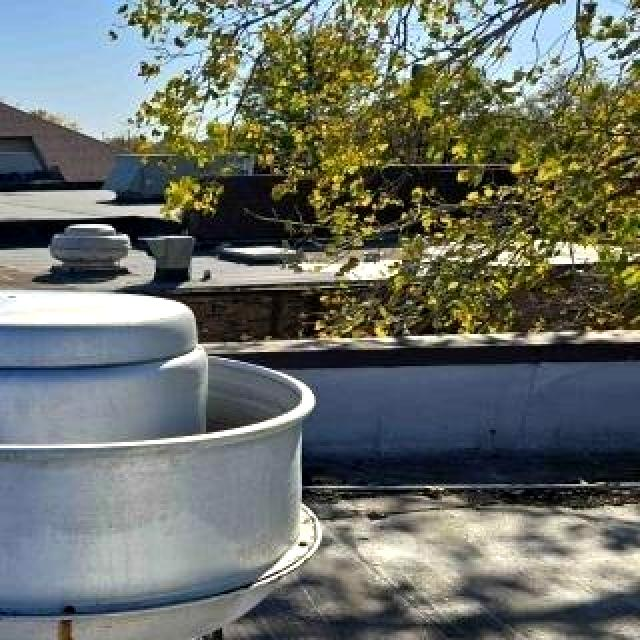GRAVITY-VENT: (0, 284, 340, 640), (46, 215, 135, 273), (142, 222, 203, 281), (0, 214, 4, 284)
